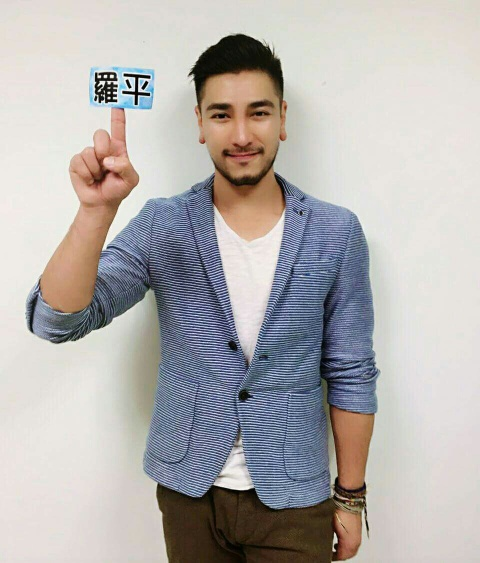male: (180, 26, 310, 206)
